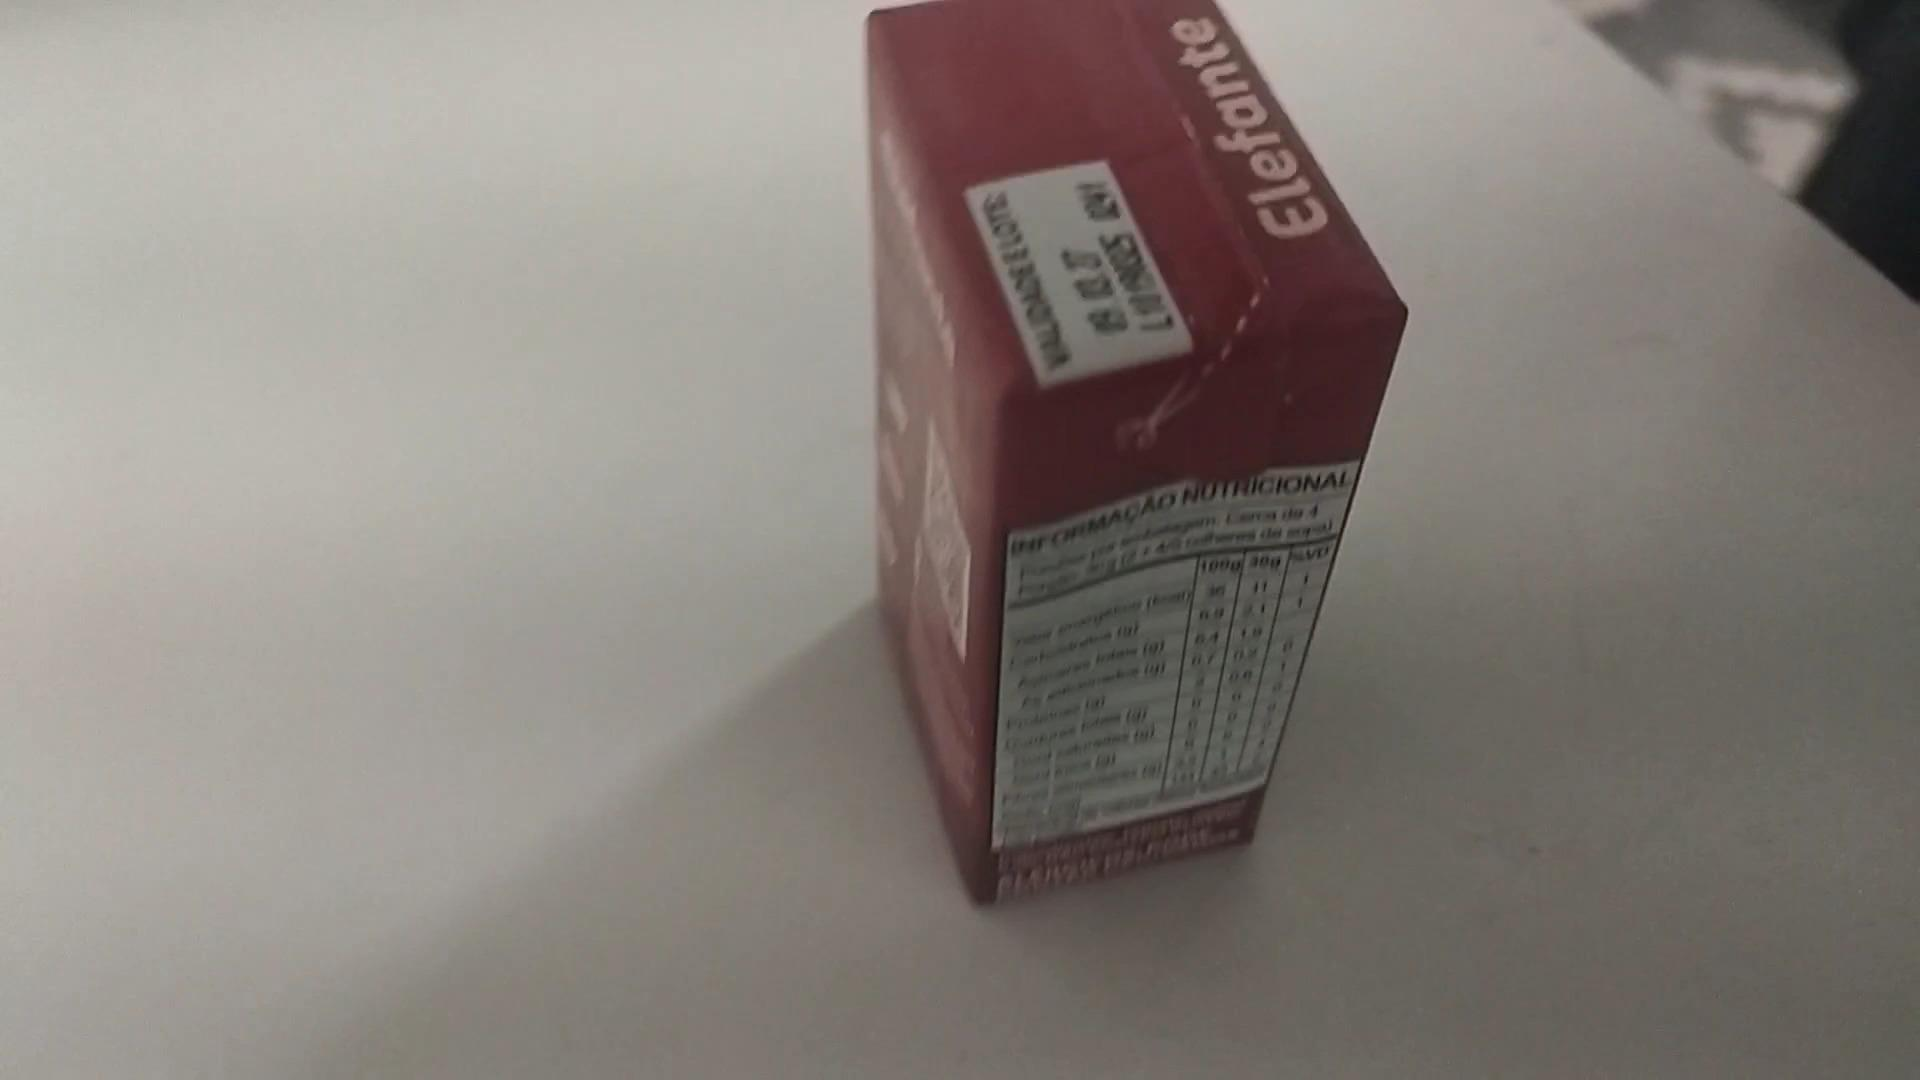tomate: (841, 0, 1422, 913)
